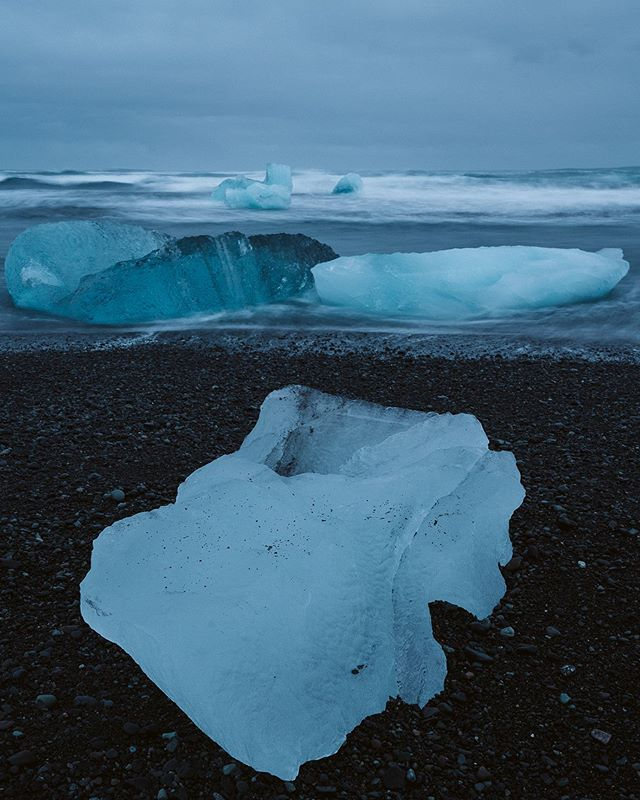beach: (1, 347, 637, 800)
sea: (1, 168, 626, 328)
sky: (6, 1, 640, 155)
